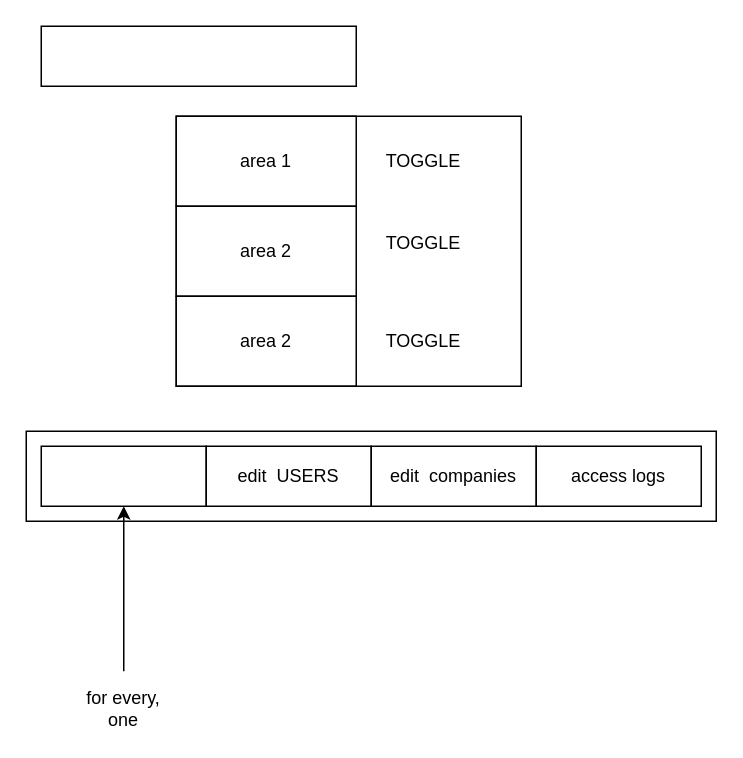
Image size: 743x758. Some labels were removed from this diagram. Here are the shapes that lost their labels. From the top down, the centre of each, then its label:
the point at 198,55: ciao, gianni, azienda, ruolo
the point at 123,475: edit personal info
